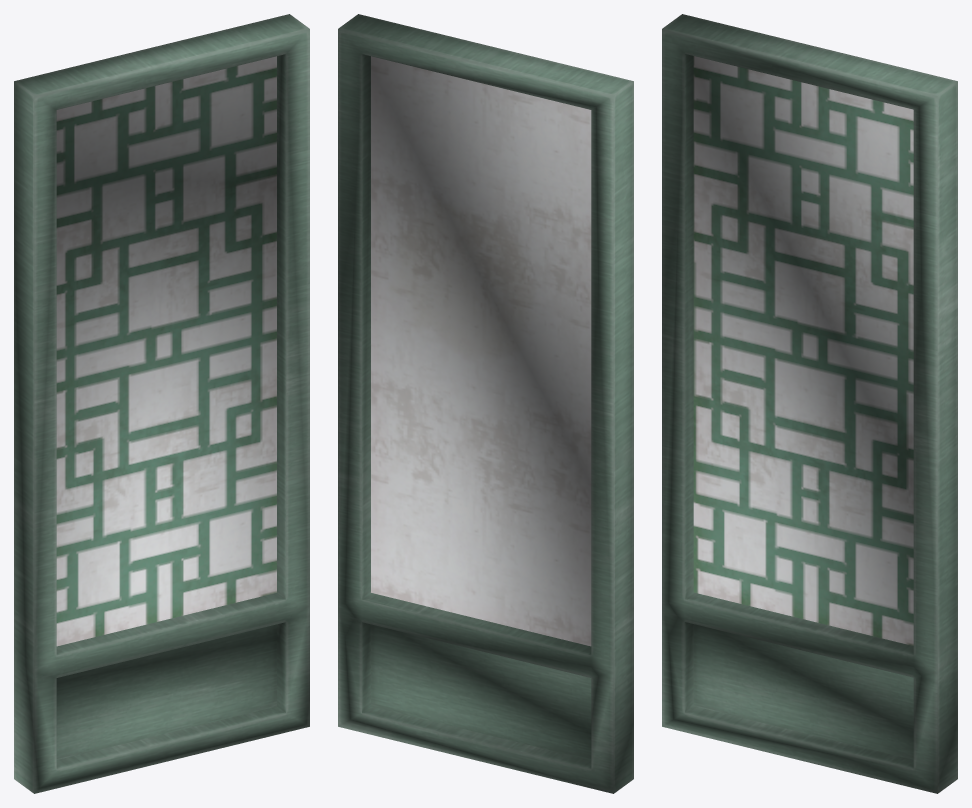
File: 경회루문.fbx
3 renders of one model, left to right at view 1: azimuth 30°, elevation 25°; view 2: azimuth 150°, elevation 25°; view 3: azimuth 330°, elevation 25°, orthographic.
Visible parts, largest first — view 1: Object136; view 2: Object136; view 3: Object136.
Boxes of the visible parts, x1,y1,x2,y2 form: Object136: (14,14,309,793); Object136: (338,14,633,793); Object136: (662,14,957,793).
Size of the model in its own units: 1066 by 136 by 2580.
